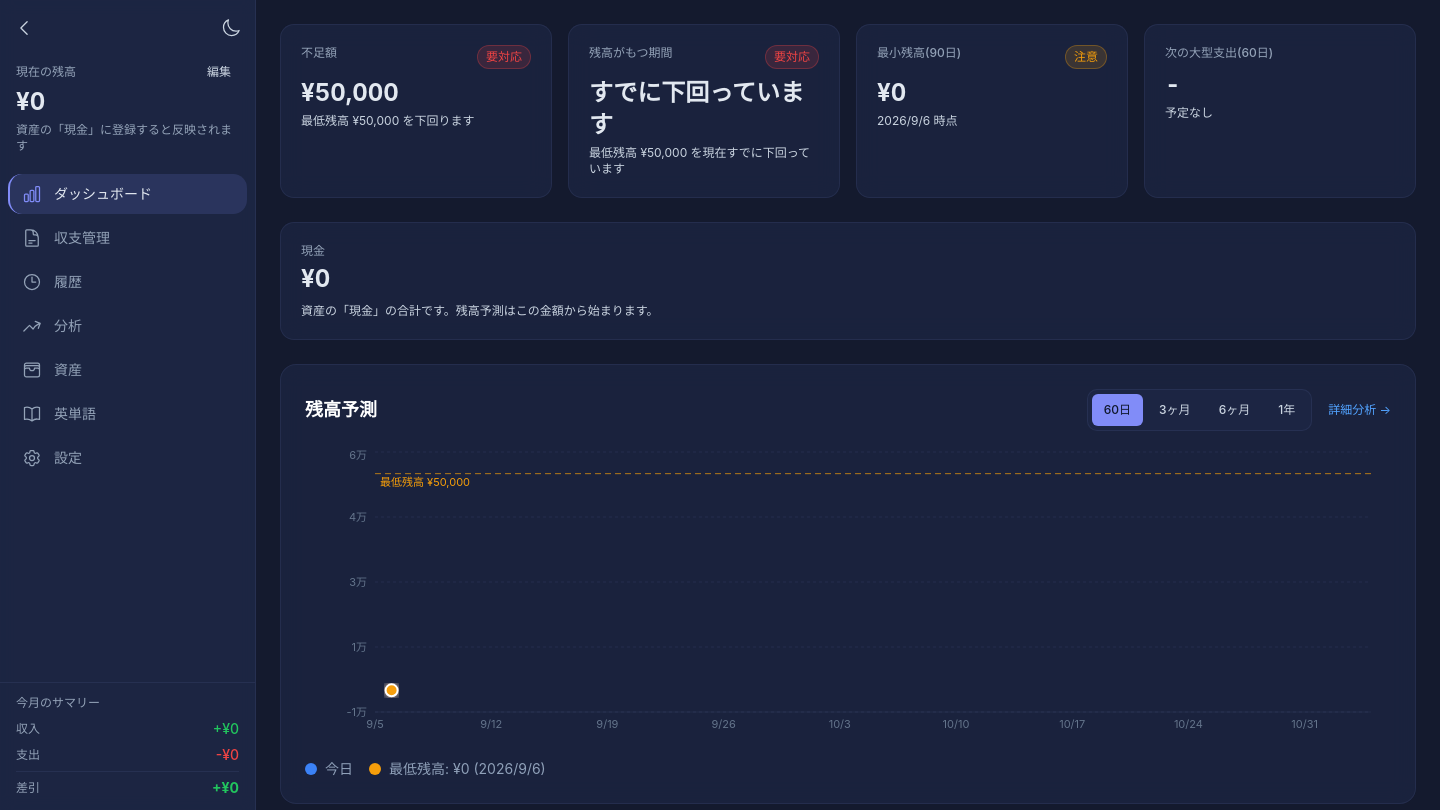
Scenario: a screen that is still loading › does not take the page once the user has moved on
The image size is (1440, 810).
What coordinates should you click on to do the following:
click the link "英単語"
I would click on:
 (59, 414)
Its box is [22, 404, 96, 424].
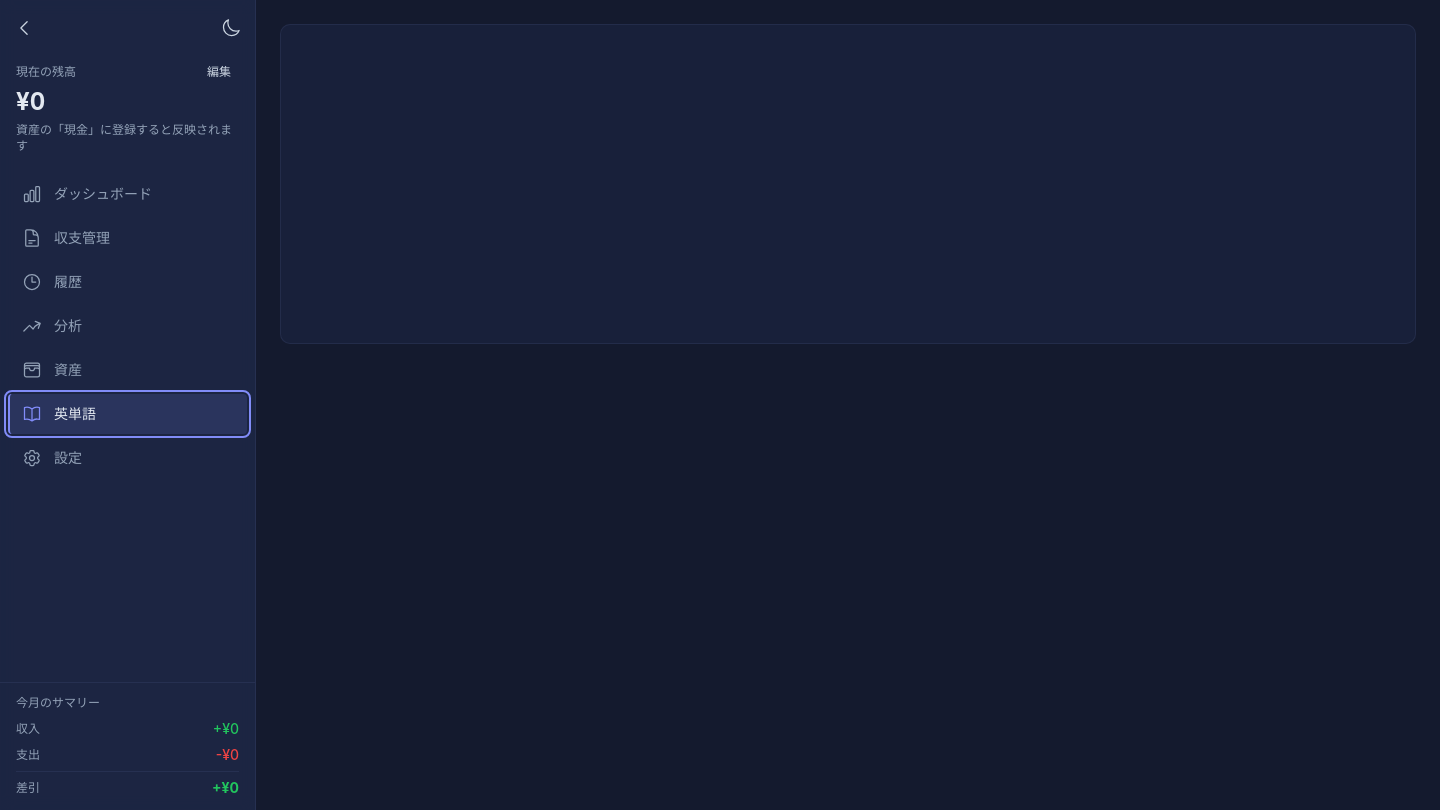
Expected: the message named "画面を読み込み中" is shown, [280, 24, 1416, 344]
What coordinates should you click on to do the following:
click the link "分析"
I would click on:
 (52, 326)
Its box is [22, 316, 82, 336].
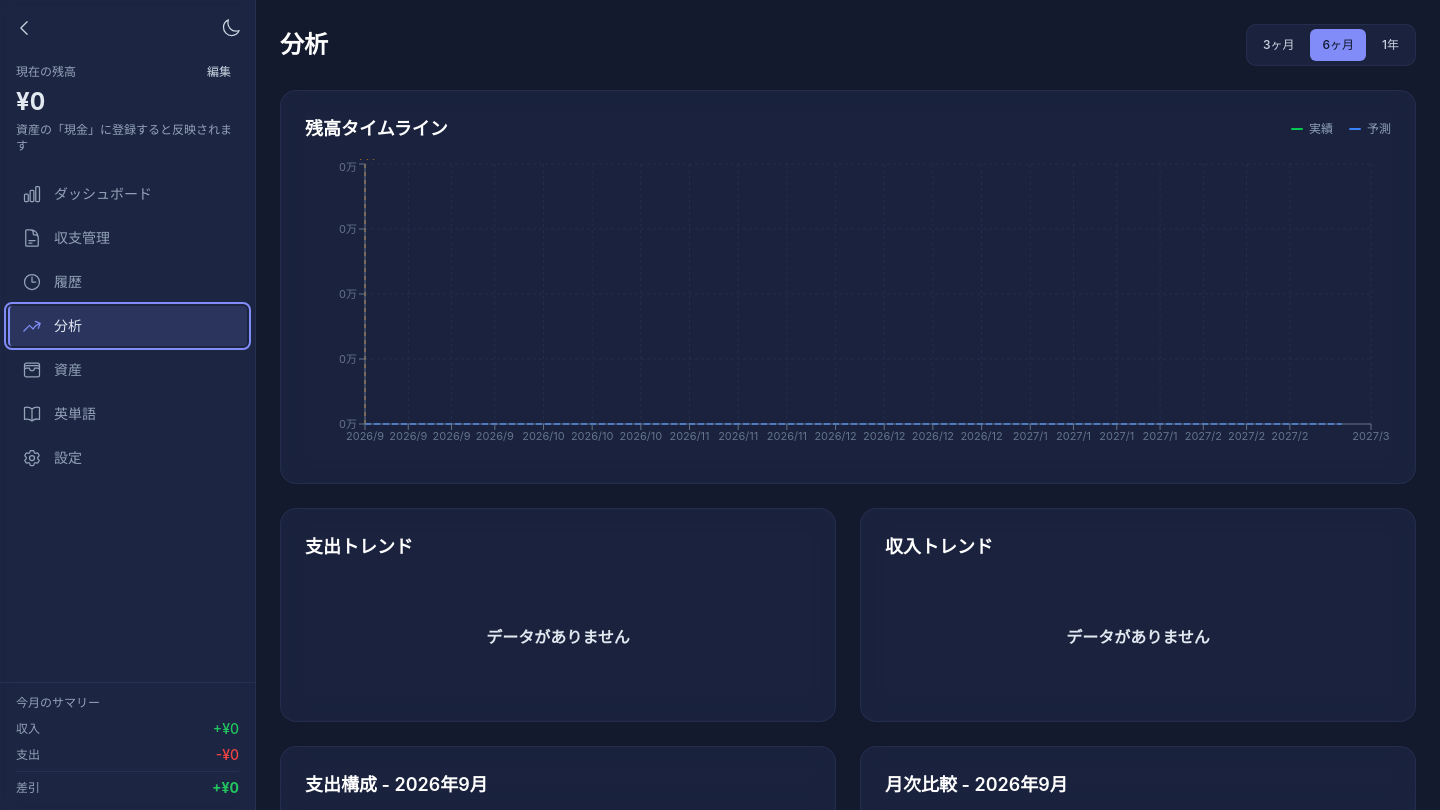
Expected: the heading "分析" is shown, [280, 29, 328, 61]
